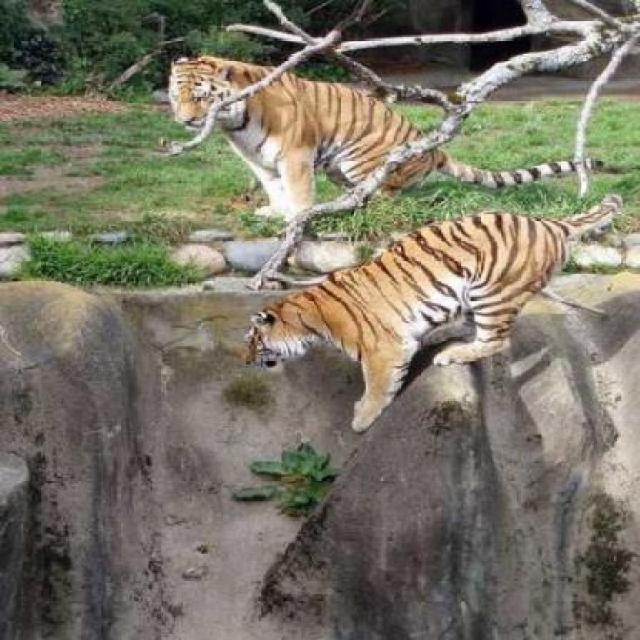tiger: (158, 53, 605, 291), (241, 192, 623, 434)
